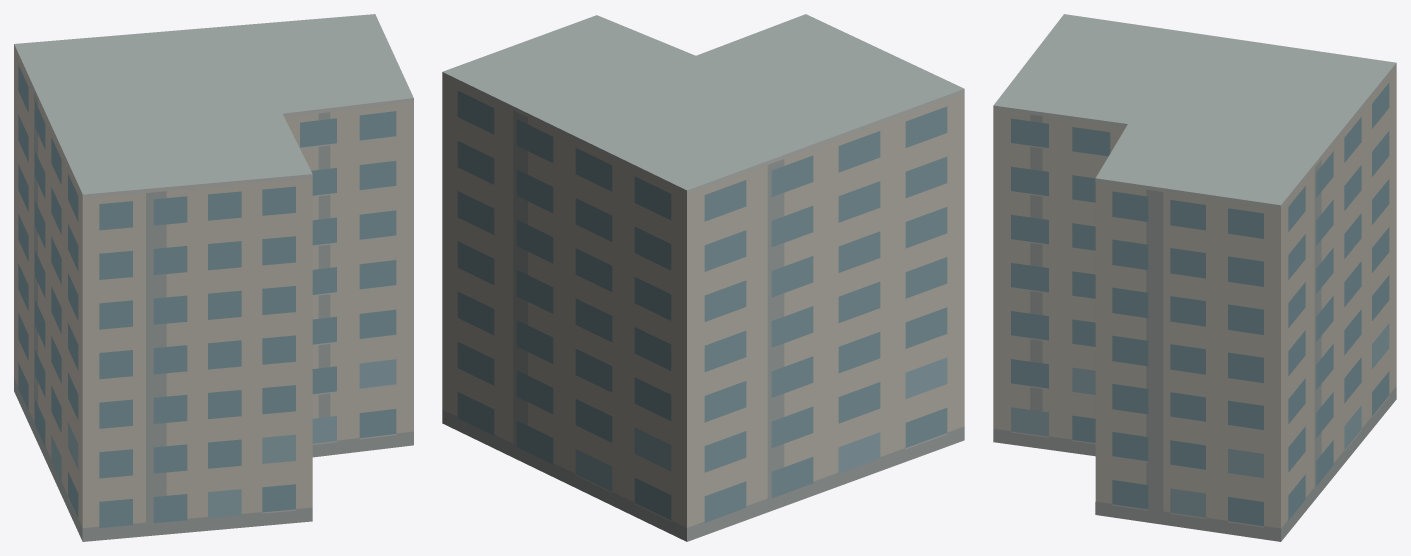
Rendered from survey-upis-32870995.glb.
3 renders of one model, left to right at view 1: azimuth 30°, elevation 25°; view 2: azimuth 150°, elevation 25°; view 3: azimuth 270°, elevation 25°, orthographic. The views are drawn at different scales.
Parts seen in each view (by area): view 1: survey-upis-32870995.tmp; view 2: survey-upis-32870995.tmp; view 3: survey-upis-32870995.tmp.
Part boxes in pixels (x1,y1,x2,y2): survey-upis-32870995.tmp: (14,14,413,541); survey-upis-32870995.tmp: (442,14,964,541); survey-upis-32870995.tmp: (993,14,1396,541).
Bounding box in the file's own units: 25.36 × 20.8 × 22.59.
